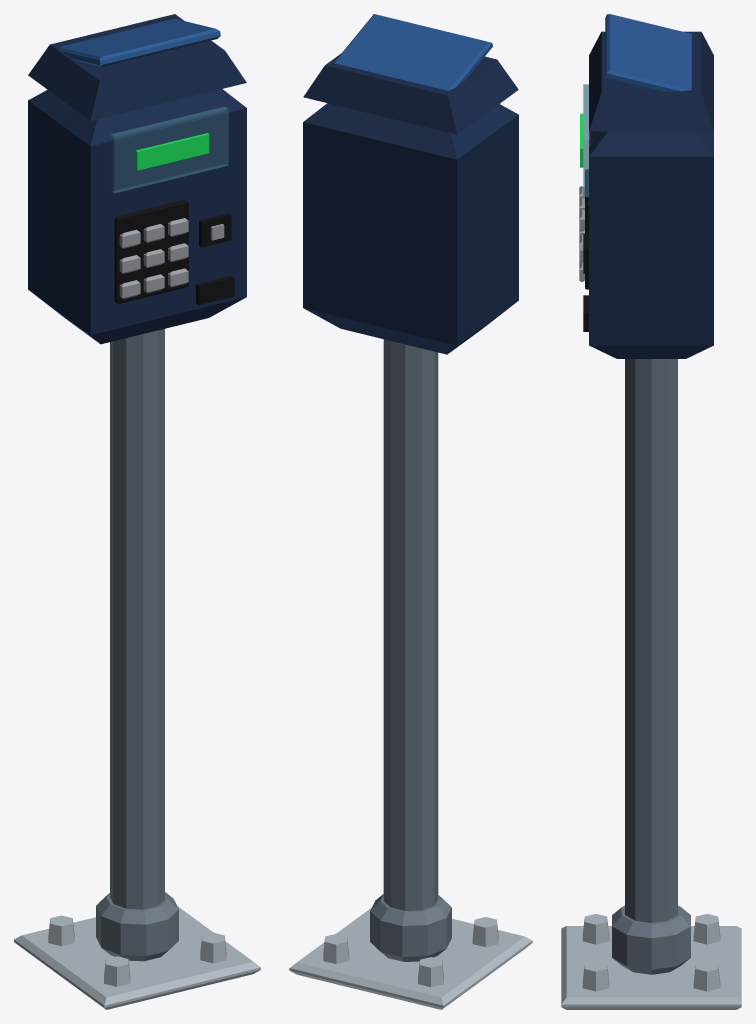
The model's file is PROP_18.obj.
The picture shows the model from 3 angles, left to right: view 1: azimuth 30°, elevation 25°; view 2: azimuth 150°, elevation 25°; view 3: azimuth 270°, elevation 25°; orthographic projection.
Parts seen in each view (by area): view 1: PROP_18__head, PROP_18__post, PROP_18__base, PROP_18__screen, PROP_18__keypad, PROP_18__solar, PROP_18__keys, PROP_18__screen_text, PROP_18__coin_slot, PROP_18__card_slot; view 2: PROP_18__head, PROP_18__post, PROP_18__base, PROP_18__solar; view 3: PROP_18__head, PROP_18__post, PROP_18__base, PROP_18__solar, PROP_18__screen, PROP_18__keys.
Part boxes in pixels (box(x1,y1,x2,y2)): PROP_18__head: box(28, 14, 246, 344); PROP_18__post: box(96, 329, 178, 961); PROP_18__base: box(14, 906, 260, 1009); PROP_18__screen: box(111, 106, 228, 193); PROP_18__keypad: box(114, 199, 188, 303); PROP_18__solar: box(60, 19, 220, 66); PROP_18__keys: box(119, 218, 188, 298); PROP_18__screen_text: box(135, 133, 209, 170); PROP_18__coin_slot: box(199, 213, 231, 247); PROP_18__card_slot: box(196, 275, 234, 305); PROP_18__head: box(303, 53, 518, 354); PROP_18__post: box(370, 339, 451, 961); PROP_18__base: box(289, 908, 532, 1009); PROP_18__solar: box(334, 14, 492, 90); PROP_18__head: box(589, 31, 713, 358); PROP_18__post: box(612, 359, 690, 974); PROP_18__base: box(561, 914, 741, 1009); PROP_18__solar: box(605, 14, 691, 91); PROP_18__screen: box(583, 84, 590, 196); PROP_18__keys: box(579, 186, 584, 281).
Bounding box in the file's own units: 0.26 × 1.48 × 0.26.
